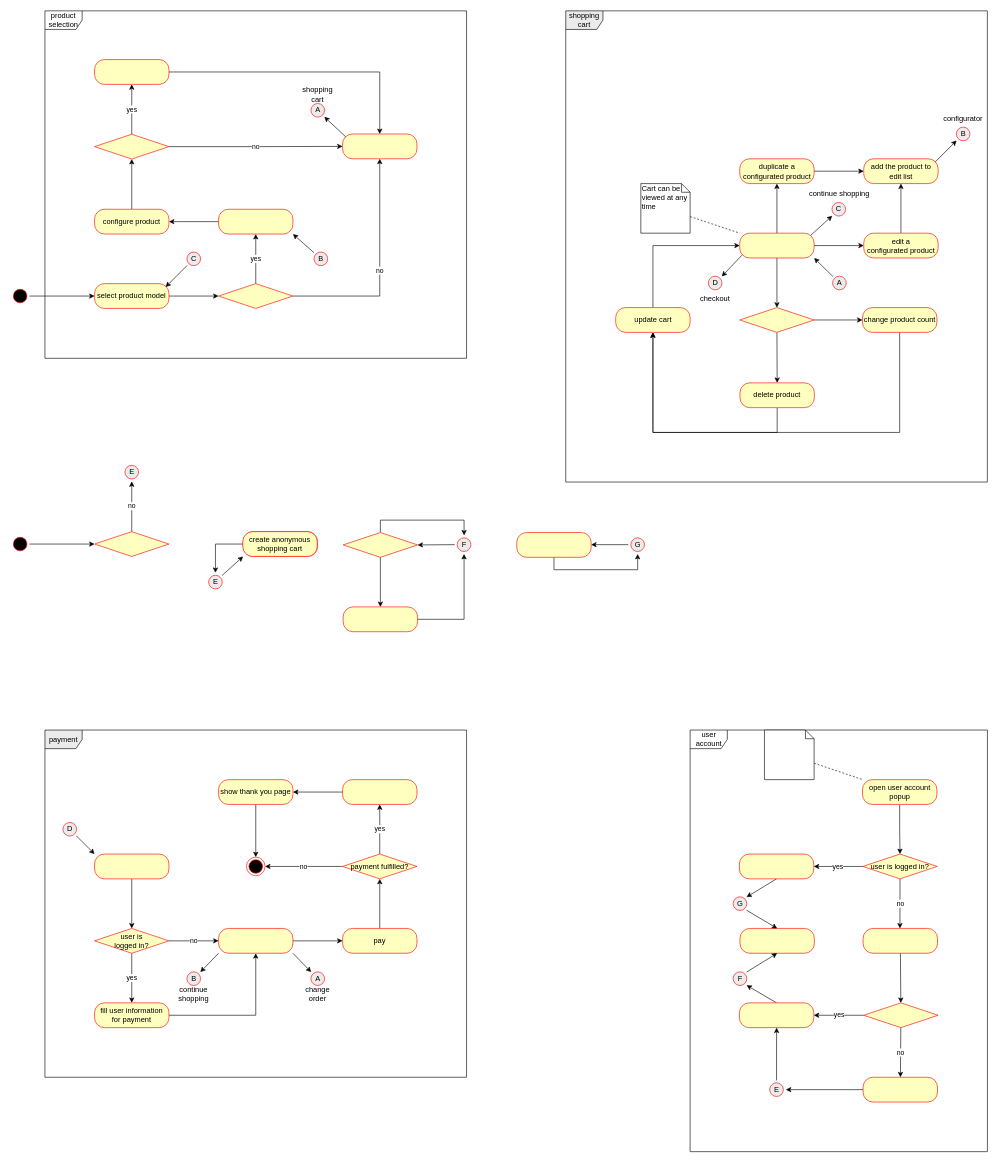
The diagram is 999 pixels wide and 1163 high, and some of its shapes have lost their labels. Here are the shapes that lost their labels. From the top down, the box of each, then its label:
(94, 59, 169, 84): create product
(94, 134, 169, 159): product needs to be created?
(342, 133, 417, 159): add product to cart
(218, 209, 293, 234): open configurator page
(739, 233, 814, 258): view cart
(218, 283, 293, 308): product needs to be configurated?
(94, 531, 169, 556): user logged in?
(343, 532, 418, 557): anonymous cart is more actual that users cart?
(516, 532, 591, 557): assign the logged in users cart to the anonymous cart
(343, 606, 418, 632): assign anonymous cart to the logged in user
(764, 729, 814, 780): user account section can be entered any time
(342, 779, 417, 804): place order
(94, 853, 169, 879): start checkout process
(739, 853, 814, 879): logout
(218, 928, 293, 953): start payment
(739, 928, 814, 953): close user account popup
(862, 928, 938, 953): start login process
(739, 1002, 814, 1028): login
(863, 1002, 938, 1028): user is registrated?
(862, 1077, 938, 1102): registrate
